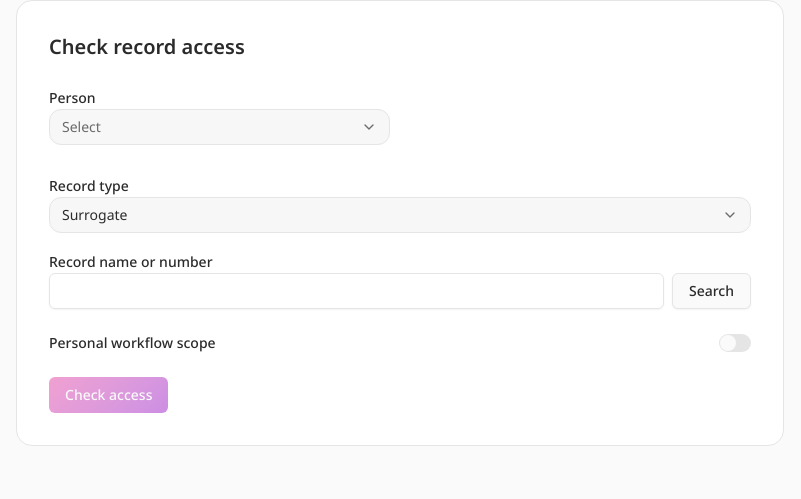
record access checker › shows empty search results with no record selected
What coordinates should you click on to do the following:
click the button "Search"
I would click on:
 (712, 291)
Its box is [672,273,751,309].
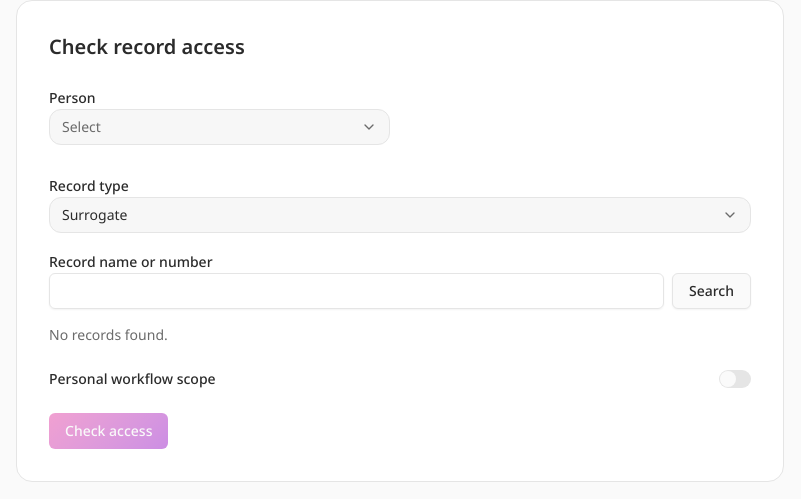
Expected: the button "Check access" is disabled, [49,413,168,449]
Result: the text "No records found." is shown at [49,325,168,344]
